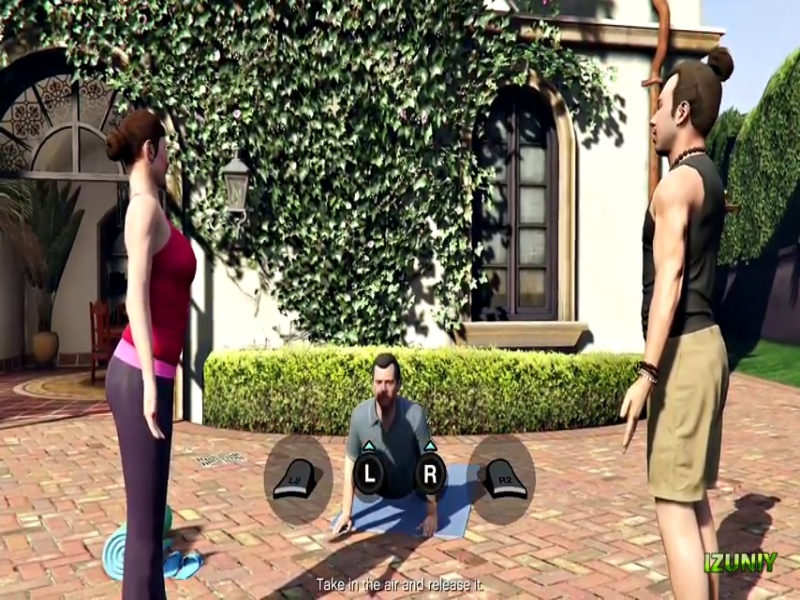human: (347, 356, 443, 543)
